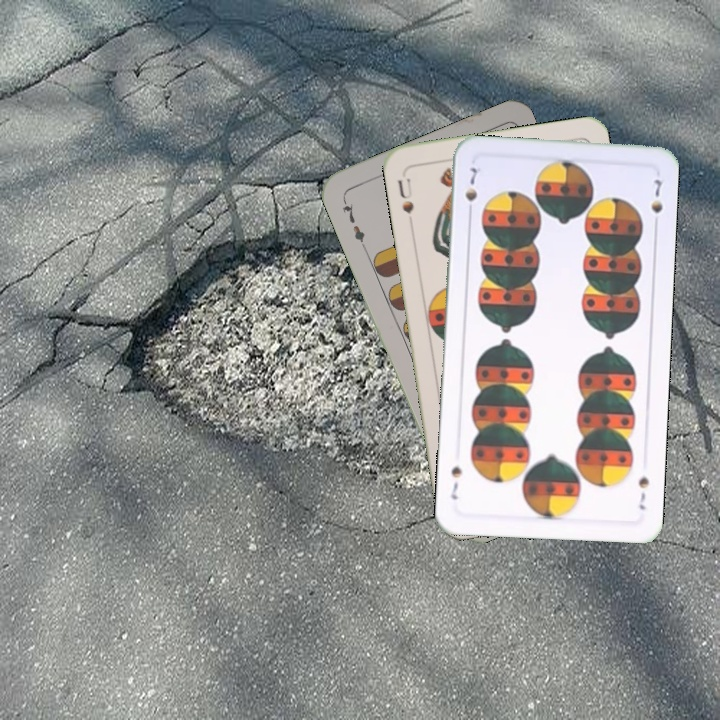E7: (338, 195, 368, 249)
S7: (461, 163, 480, 219), (634, 472, 651, 512)
SU: (394, 173, 417, 228)
